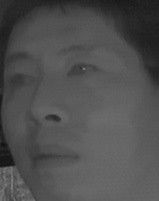eye: (64, 58, 99, 83), (6, 69, 35, 92)
mouth: (27, 138, 81, 173)
